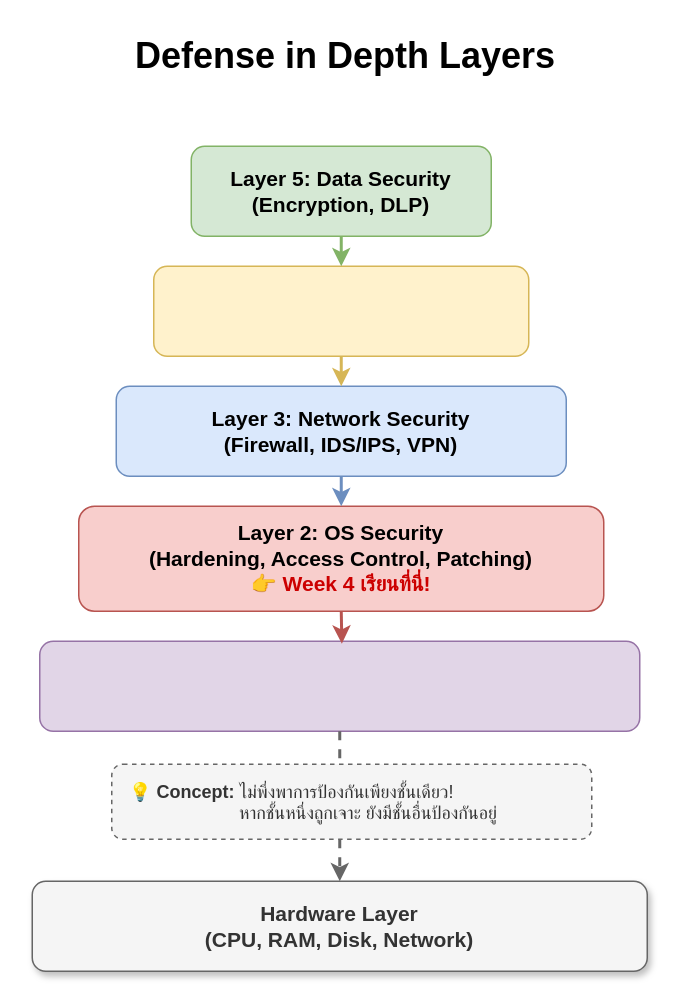
This 683x1008 diagram has some shape labels left out. The shapes that lost their labels are listed below. From the top down, each one's centre as x and y in pixels, then its label:
(340,310): Layer 4: Application Security (Input Validation, OWASP)
(339,685): Layer 1: Physical Security (Locked Server Room, Biometrics)
